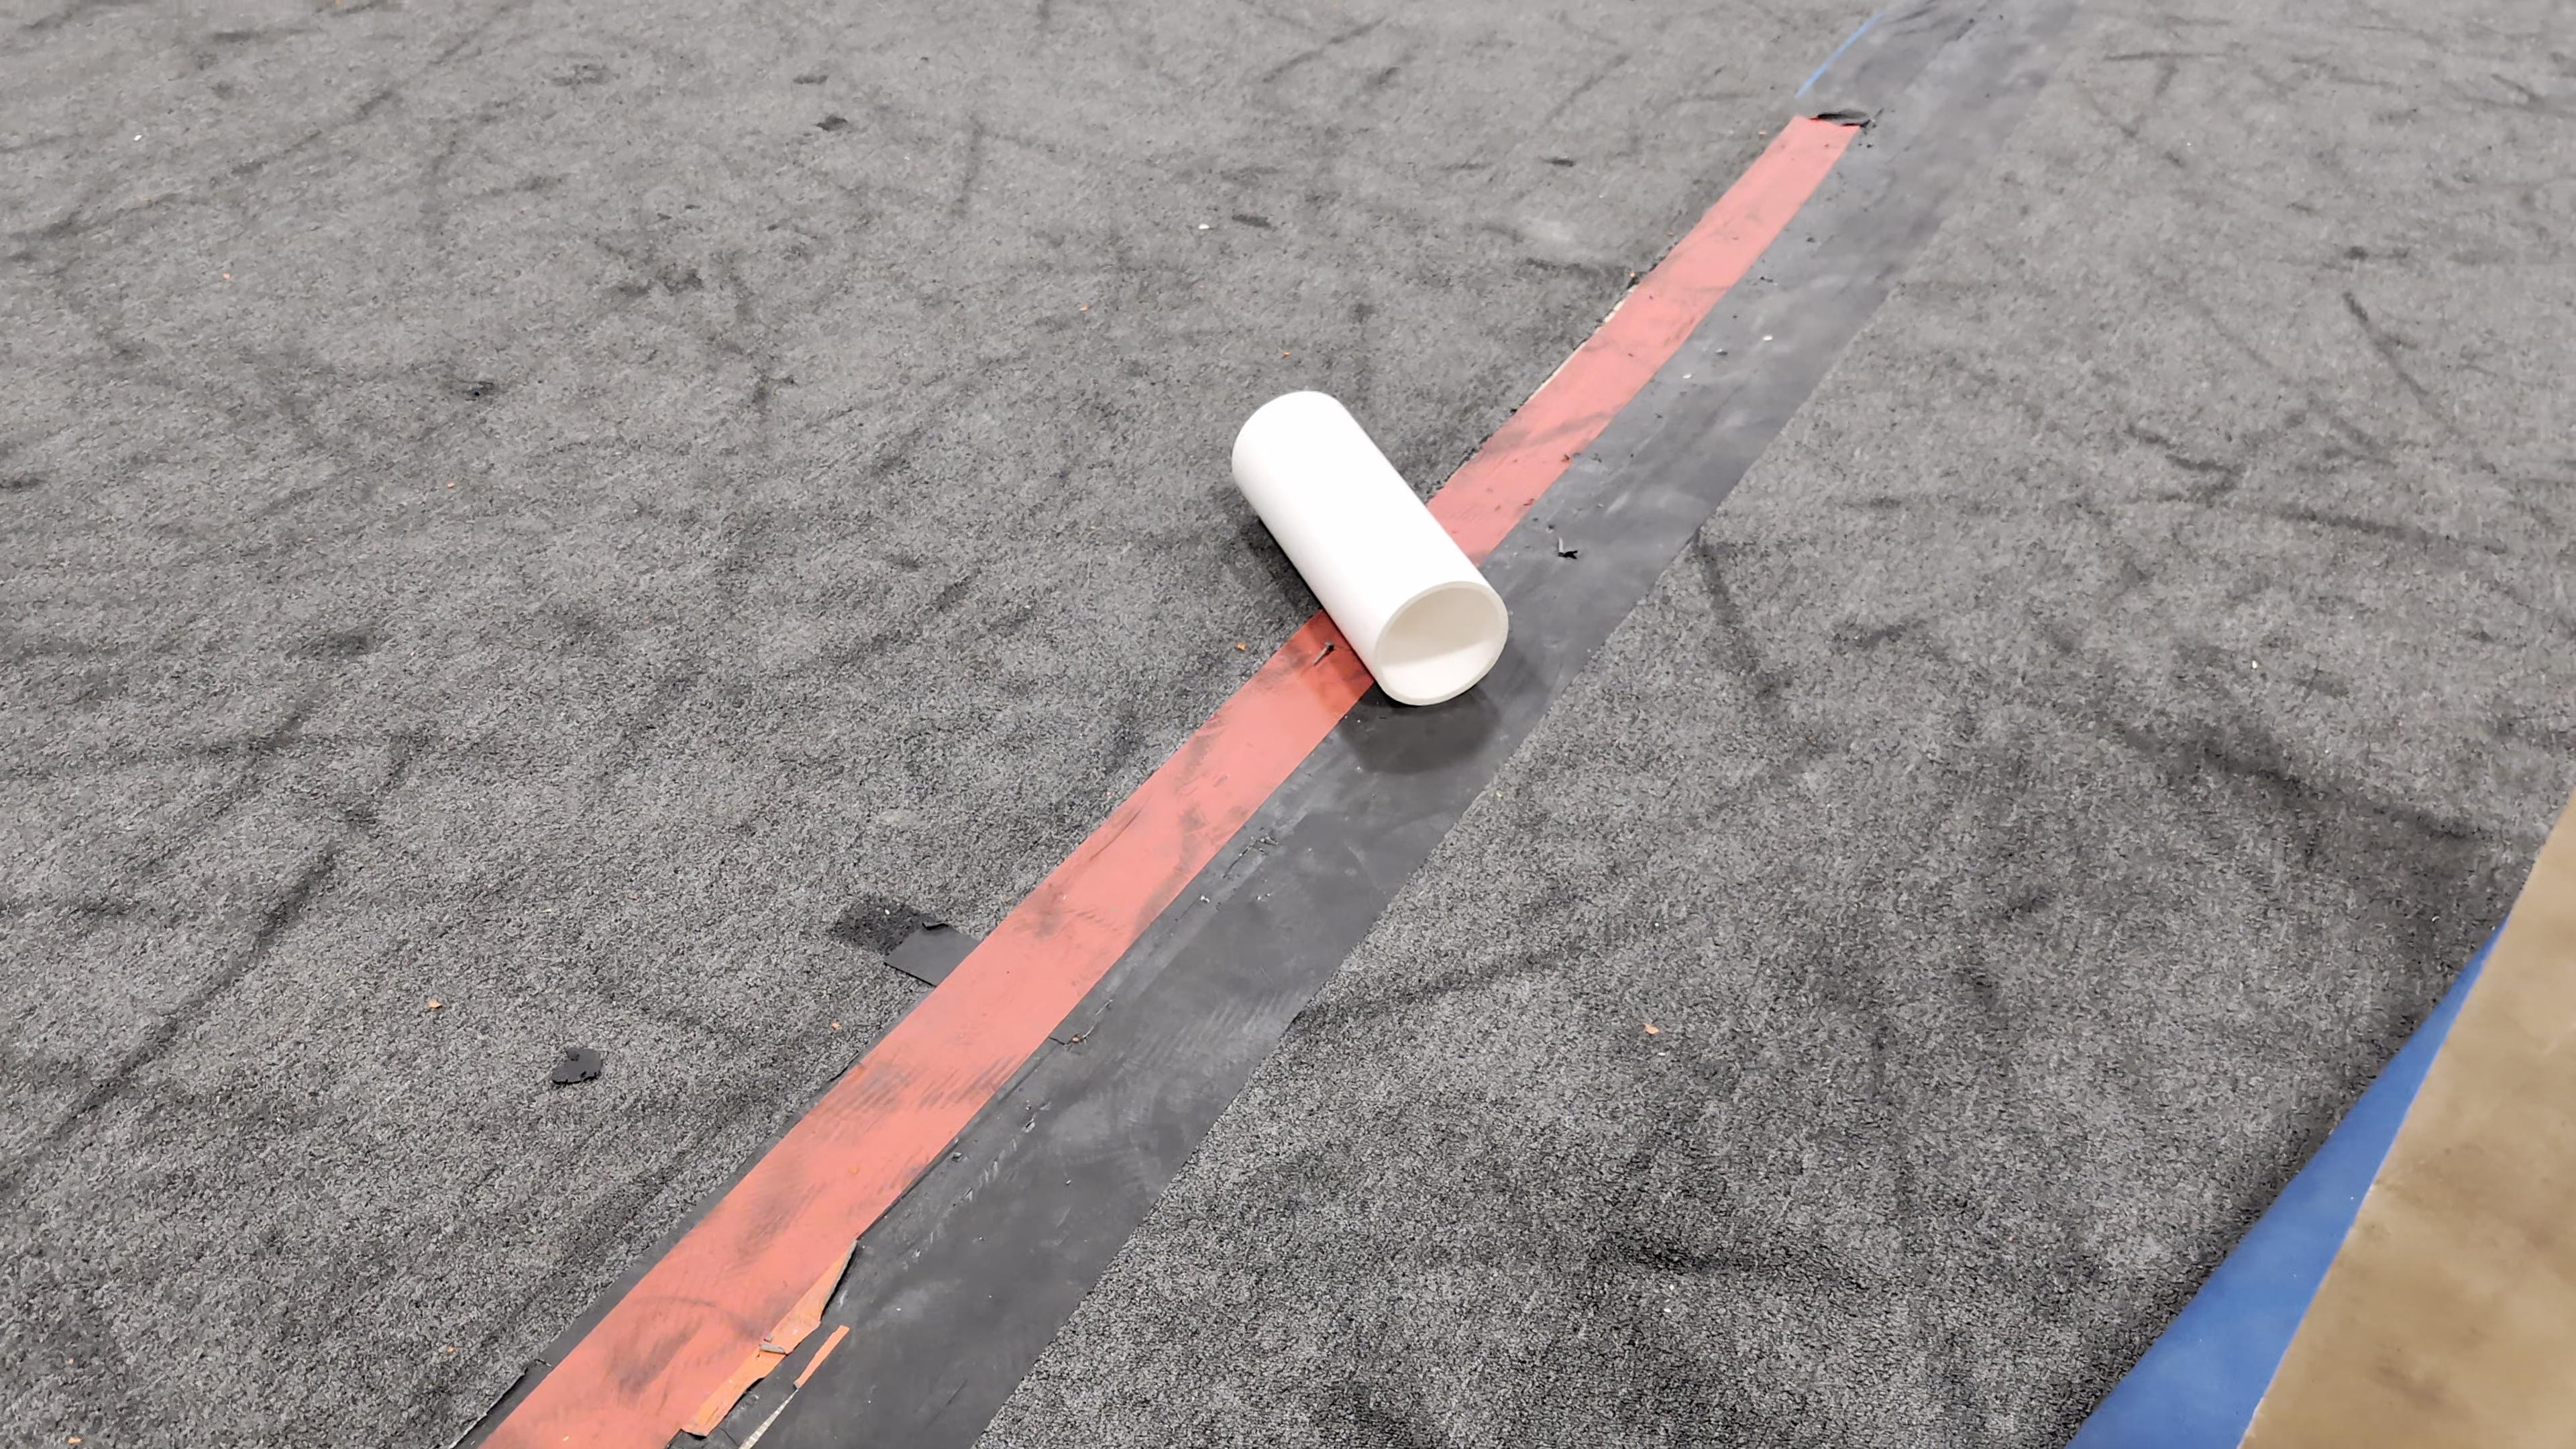coral: (1228, 384, 1513, 706)
